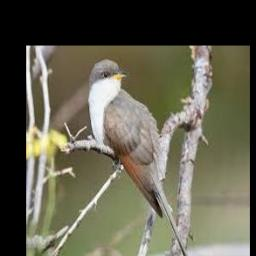Cuckoo: (86, 59, 192, 256)
